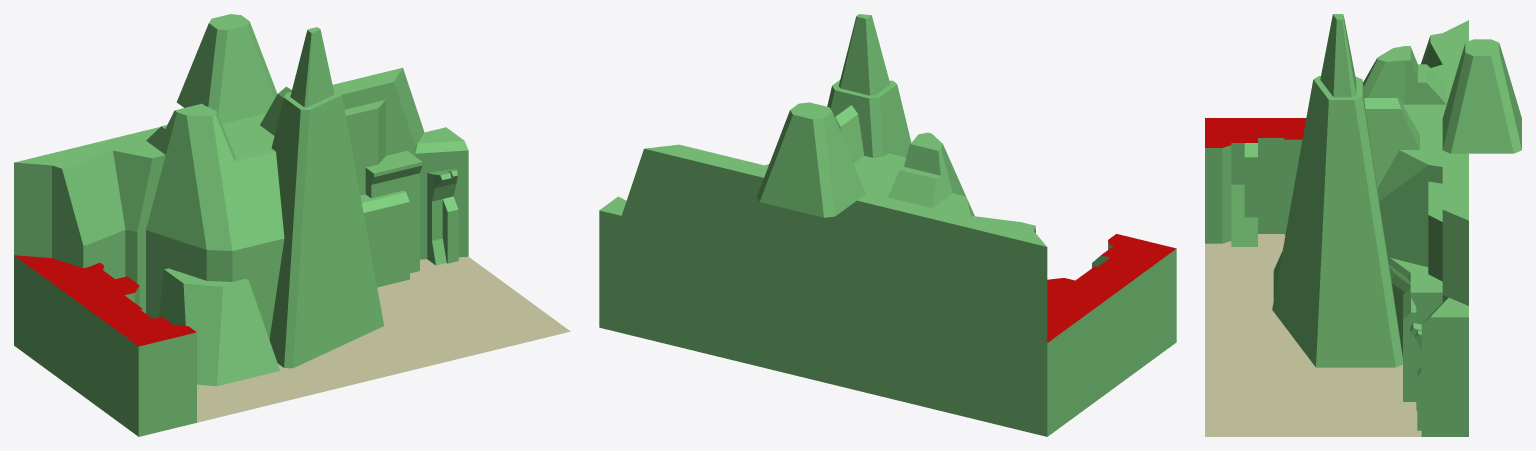
The model's file is x_oo_ground_50_wall1_rmstrd.fbx.
3 views of the same model, side by side, from view 1: azimuth 30°, elevation 25°; view 2: azimuth 150°, elevation 25°; view 3: azimuth 270°, elevation 25° (orthographic). The views are drawn at different scales.
Parts seen in each view (by area): view 1: x_oo_ground_50_wall1_rmstrd1; view 2: x_oo_ground_50_wall1_rmstrd1; view 3: x_oo_ground_50_wall1_rmstrd1.
Boxes of the visible parts, box(x1,y1,x2,y2) form: x_oo_ground_50_wall1_rmstrd1: box(14, 14, 570, 436); x_oo_ground_50_wall1_rmstrd1: box(599, 14, 1176, 436); x_oo_ground_50_wall1_rmstrd1: box(1205, 14, 1521, 436).
Size of the model in its own units: 20 by 13.38 by 12.
